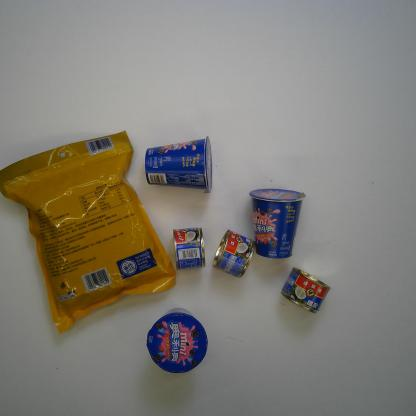Canned Food: (280, 267, 331, 313), (212, 229, 256, 279), (172, 226, 206, 271)
Dessert: (146, 306, 208, 375), (248, 188, 306, 260), (144, 136, 213, 194)
Dried Food: (0, 130, 177, 335)
